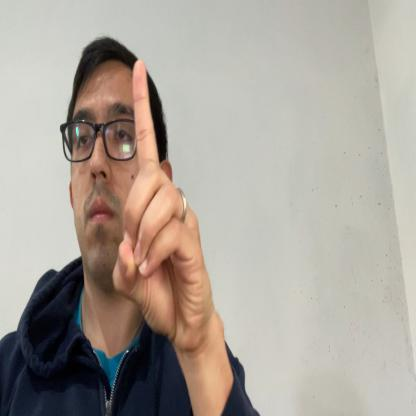D: (112, 60, 207, 345)
